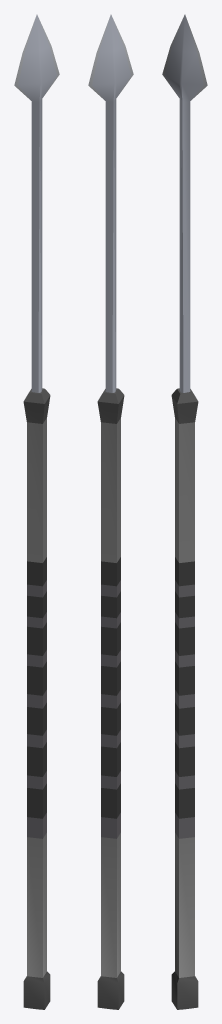
File: Spear_4.fbx
3 renders of one model, left to right at view 1: azimuth 30°, elevation 25°; view 2: azimuth 210°, elevation 25°; view 3: azimuth 330°, elevation 25°, orthographic.
Parts seen in each view (by area): view 1: polySurface219; view 2: polySurface219; view 3: polySurface219.
Boxes of the visible parts, x1,y1,x2,y2 form: polySurface219: (14, 14, 59, 1009); polySurface219: (88, 14, 133, 1009); polySurface219: (162, 14, 207, 1009).
Size of the model in its own units: 26.97 by 563 by 16.
